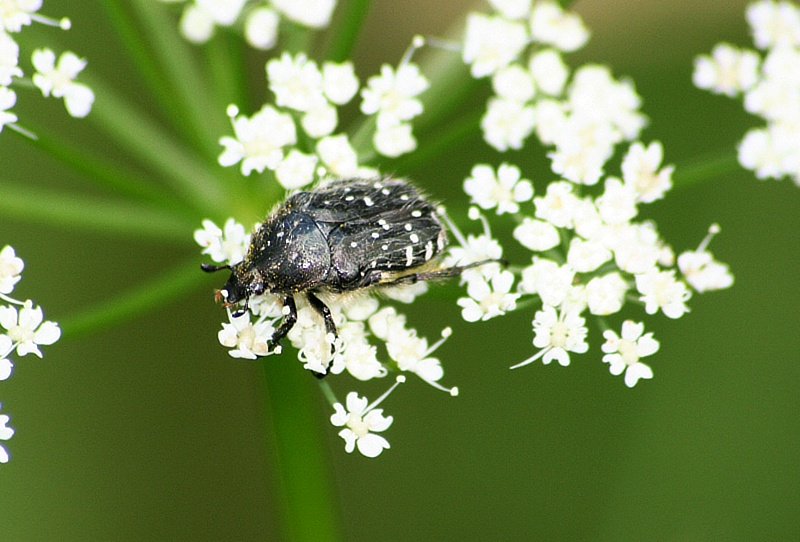Oxythyrea_funesta: (193, 168, 515, 386)
